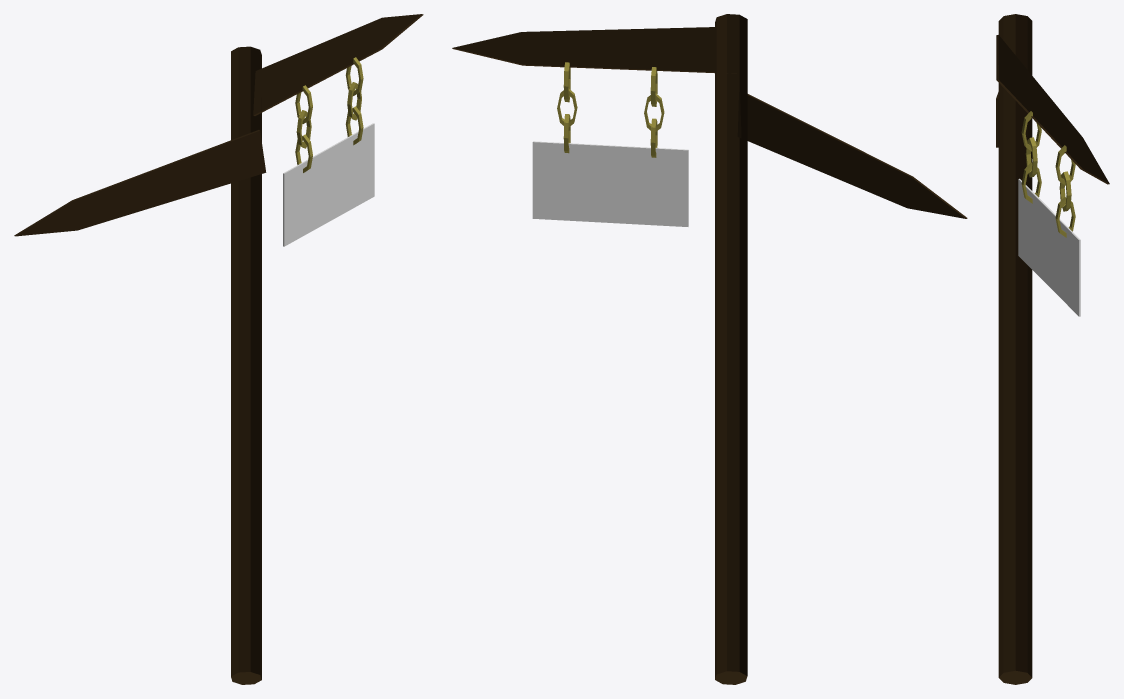
The model's file is F2M4MARINE_SkullBord.fbx.
3 renders of one model, left to right at view 1: azimuth 30°, elevation 25°; view 2: azimuth 150°, elevation 25°; view 3: azimuth 270°, elevation 25°, orthographic. The views are drawn at different scales.
Visible parts, largest first — view 1: skull_bord; view 2: skull_bord; view 3: skull_bord.
Part boxes in pixels (<box>): skull_bord: <box>14,14,423,684</box>; skull_bord: <box>452,14,967,684</box>; skull_bord: <box>996,14,1109,684</box>.
Bounding box in the file's own units: 478 × 635 × 99.87.
